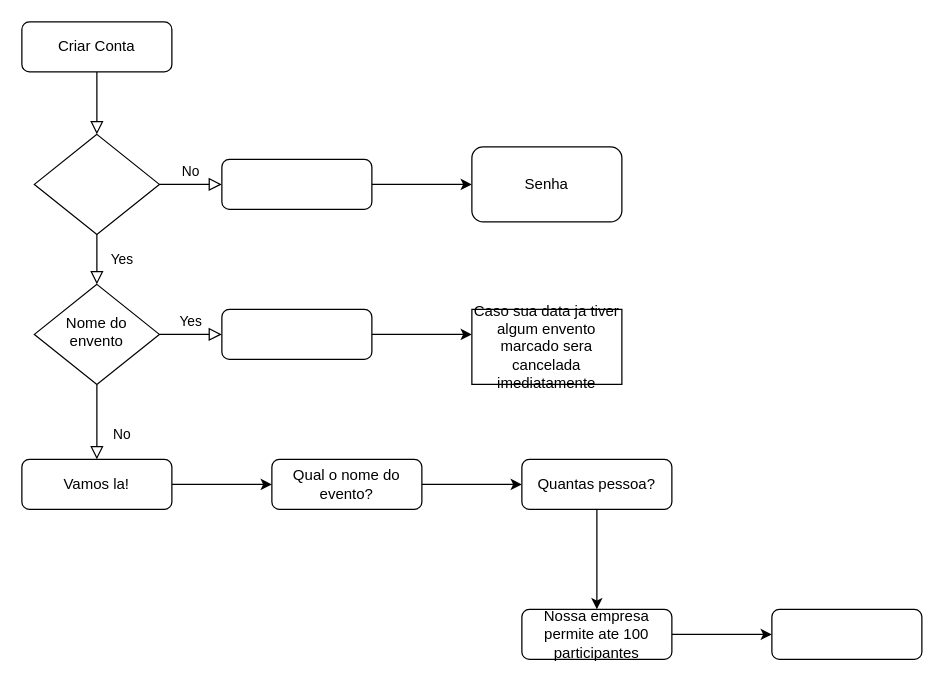
This 944x683 diagram has some shape labels left out. Here are the shapes that lost their labels. From the top down, the centre of each, then its label:
At pixel 96 183: "Nome".
At pixel 296 183: "email".
At pixel 296 333: "Data estimada para acontecer o evento?".
At pixel 846 633: "seu evento sera cancelado".
